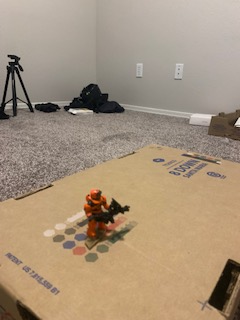soldier: (82, 188, 132, 242)
